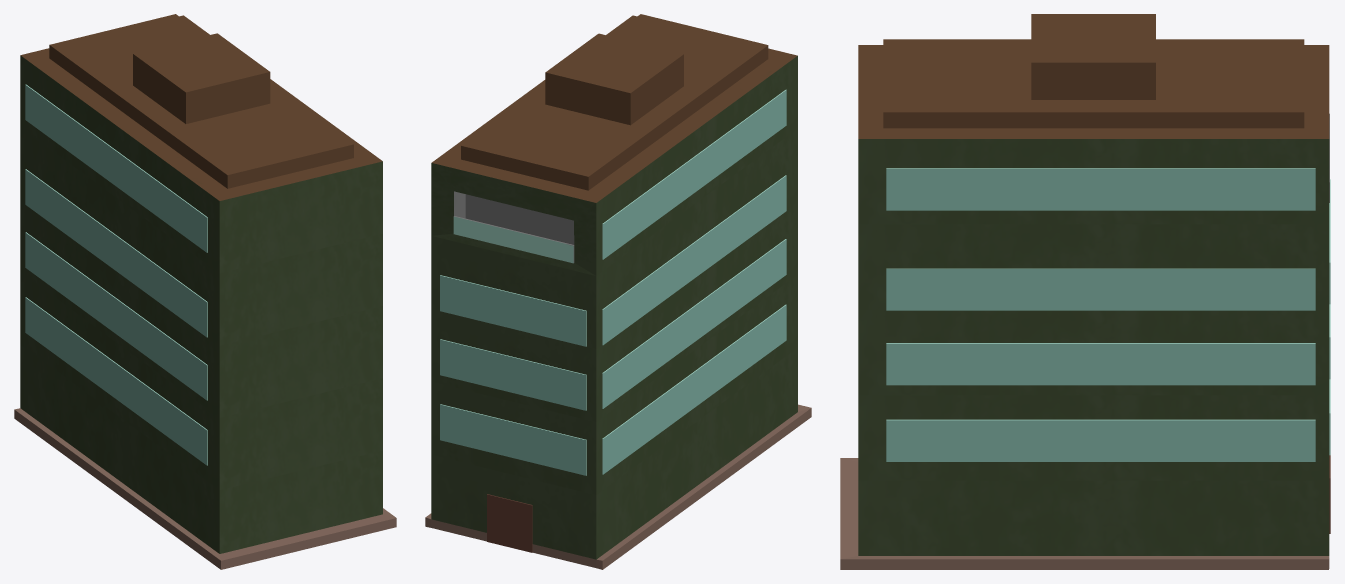
File: predio3Textura.fbx
3 views of the same model, side by side, from view 1: azimuth 30°, elevation 25°; view 2: azimuth 150°, elevation 25°; view 3: azimuth 270°, elevation 25° (orthographic). The views are drawn at different scales.
Visible parts, largest first — view 1: Cube.001; view 2: Cube.001; view 3: Cube.001.
Part boxes in pixels (left/top/right/bottom): Cube.001: left=14, top=14, right=396, bottom=569; Cube.001: left=425, top=14, right=811, bottom=569; Cube.001: left=840, top=14, right=1330, bottom=569.
Size of the model in its own units: 1510 by 3347 by 3090.
